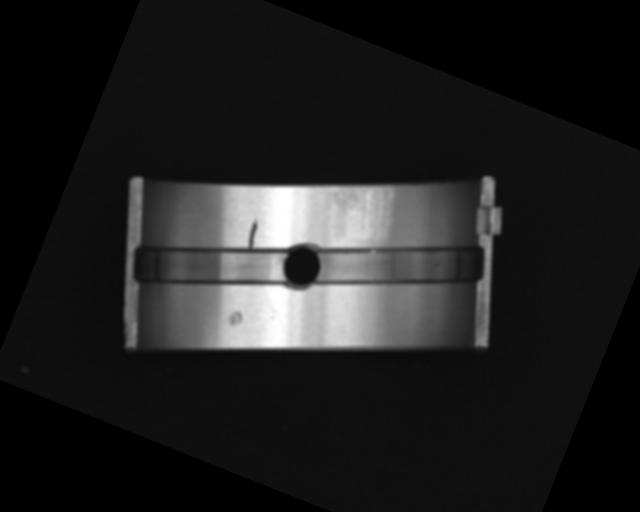bruise: (225, 306, 247, 329)
gap: (309, 197, 486, 335), (127, 206, 290, 328)
hole: (275, 240, 326, 293)
nick: (242, 215, 264, 251)
scratch: (322, 158, 405, 245)
